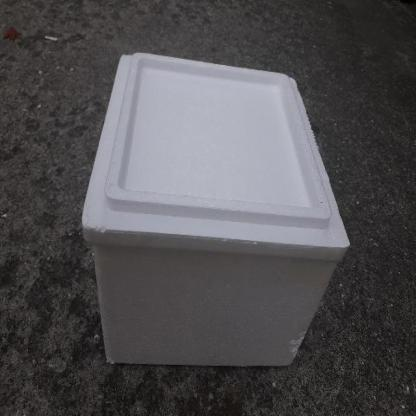Glass Cup: (81, 50, 352, 368), (82, 52, 350, 366)
